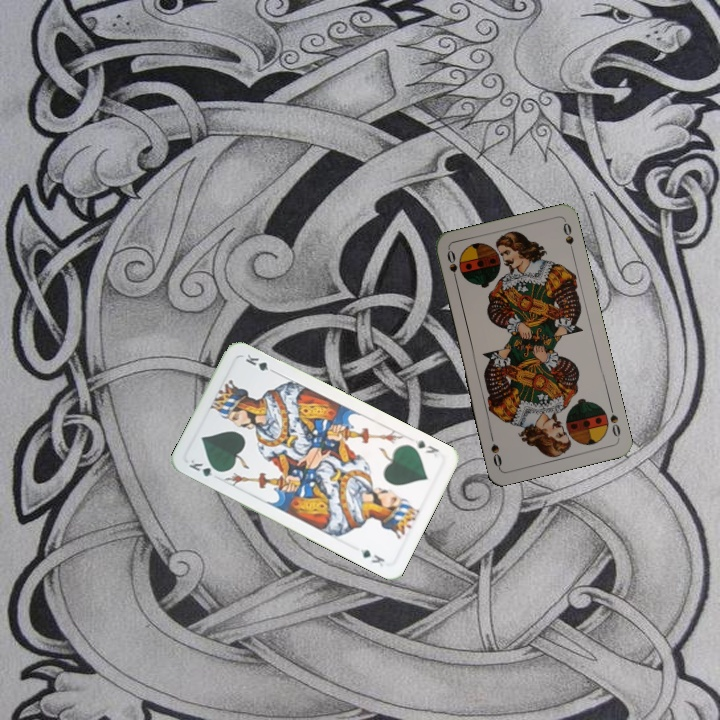GK: (185, 455, 224, 480), (407, 434, 441, 457)
SO: (443, 246, 460, 286), (606, 401, 623, 441)
